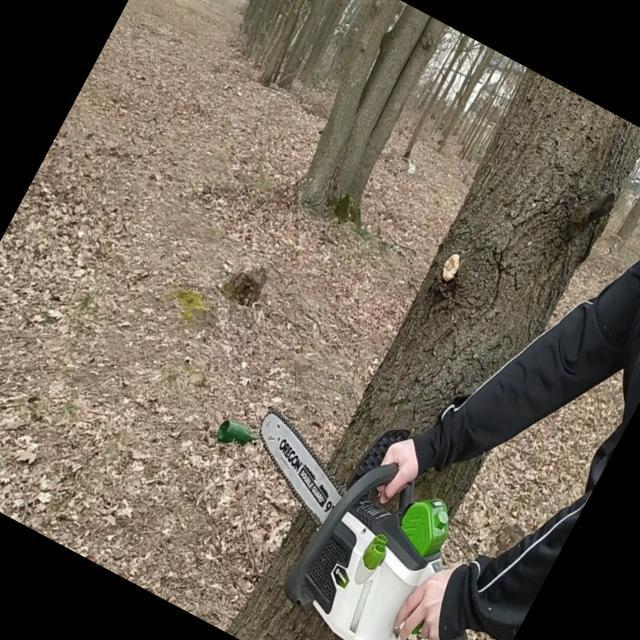Chainsaw: (167, 399, 537, 640)
